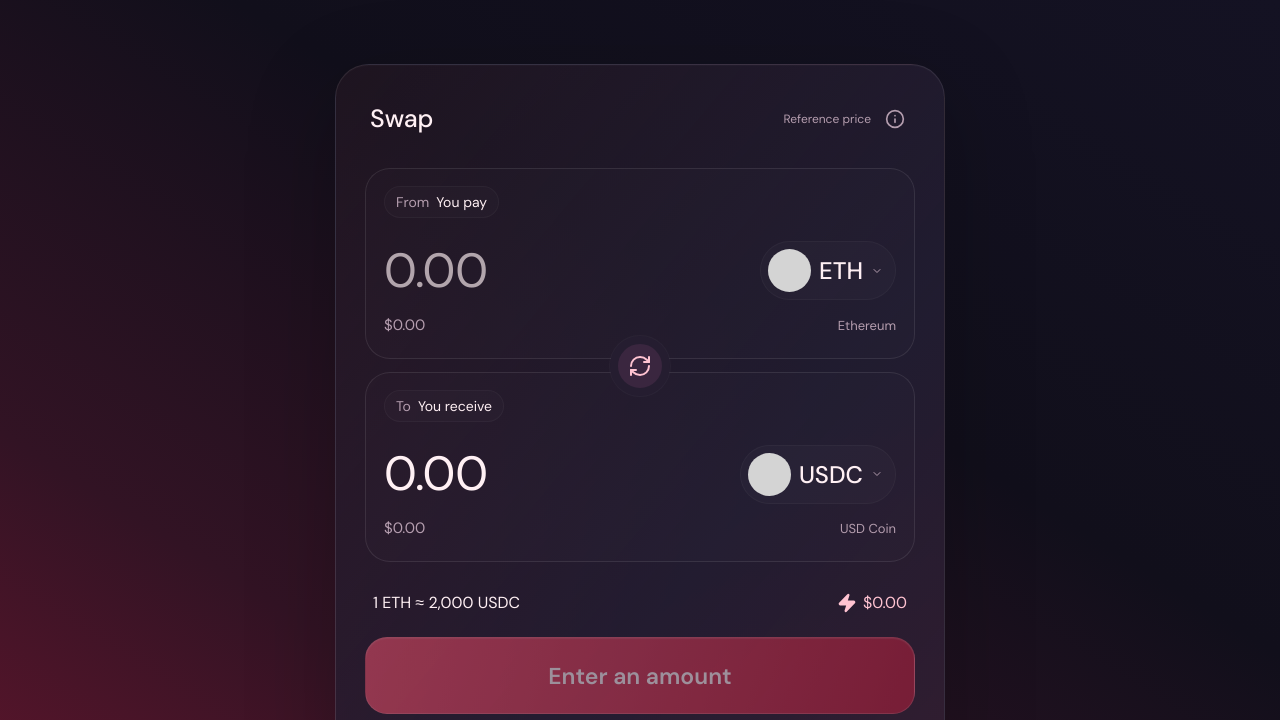
it: swap interactions › reverses the pair while preserving the input string
The image size is (1280, 720).
Check: the button with aria-label "You pay: ETH. Select token" is shown, box [760,241,896,300]
Type "2.00" into the field labelled "You pay" at (565, 270), box [384,239,746,302]
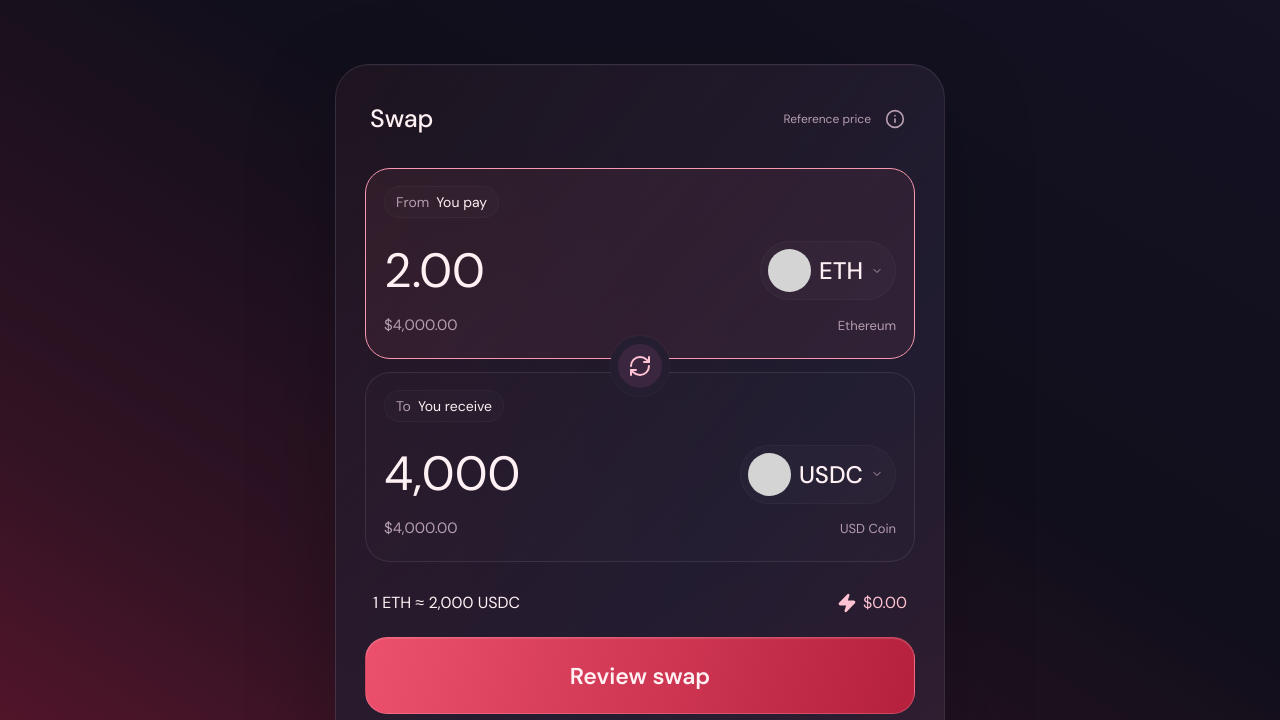
Click the button named "Reverse swap direction" at (640, 366), box [610,336,670,396]
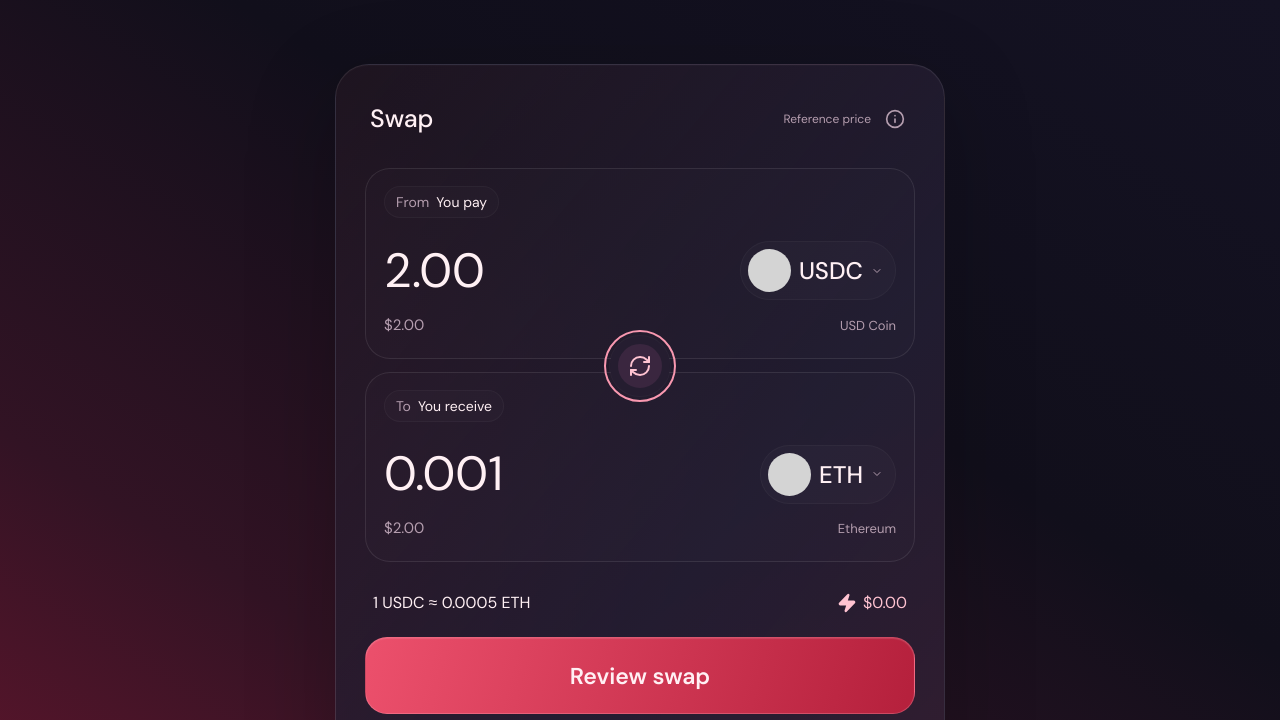
Check: the button with aria-label "You pay: USDC. Select token" is shown, box [740,241,896,300]
Check: the button with aria-label "You receive: ETH. Select token" is shown, box [760,445,896,504]
Check: the text named "You receive" reads "0.001", box [384,442,503,505]
